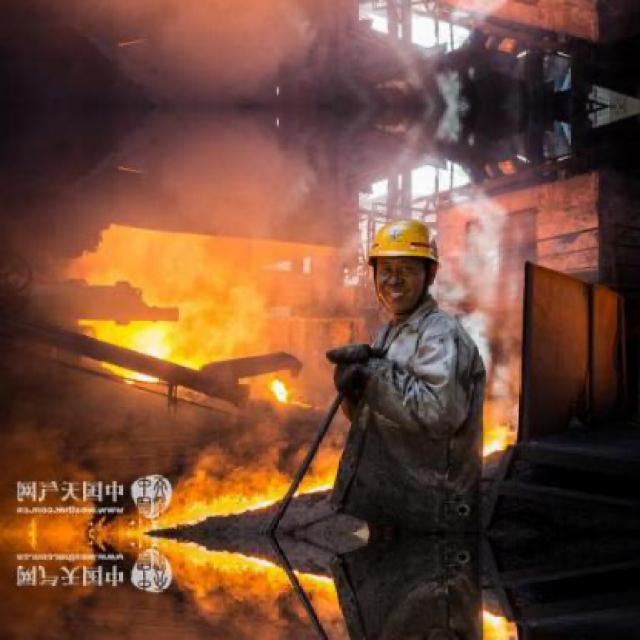helmet: (362, 211, 444, 316)
